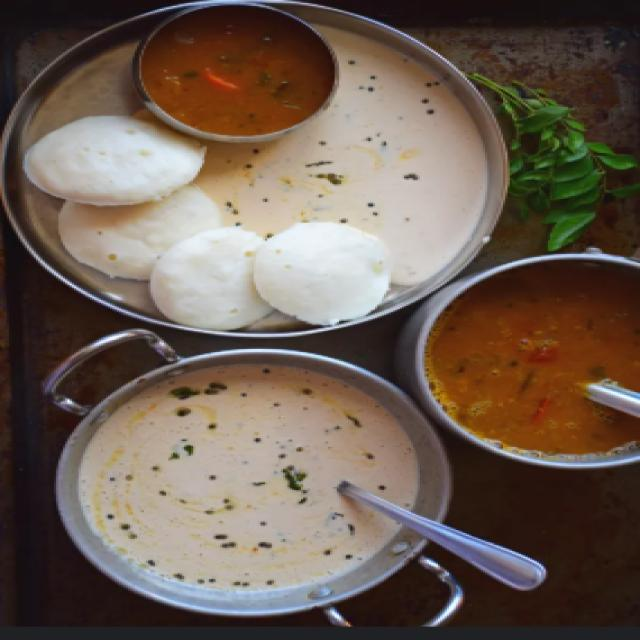peanut chutney: (161, 378, 417, 596)
